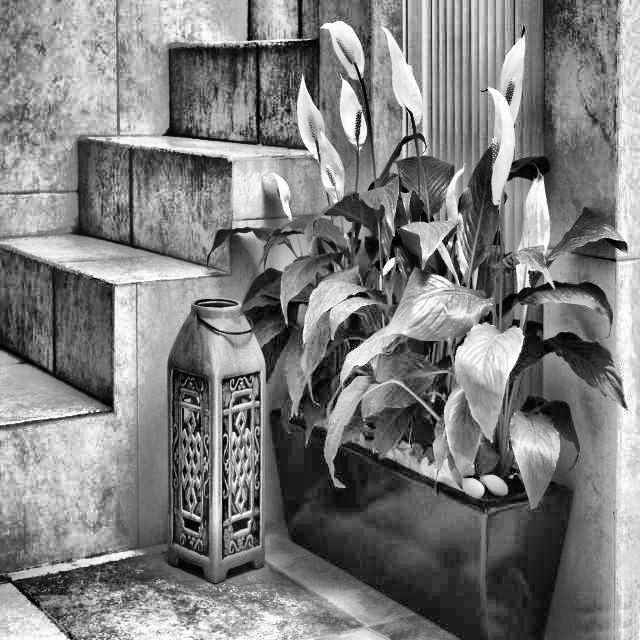plants: (268, 24, 633, 518), (320, 376, 385, 494), (462, 321, 522, 444)
